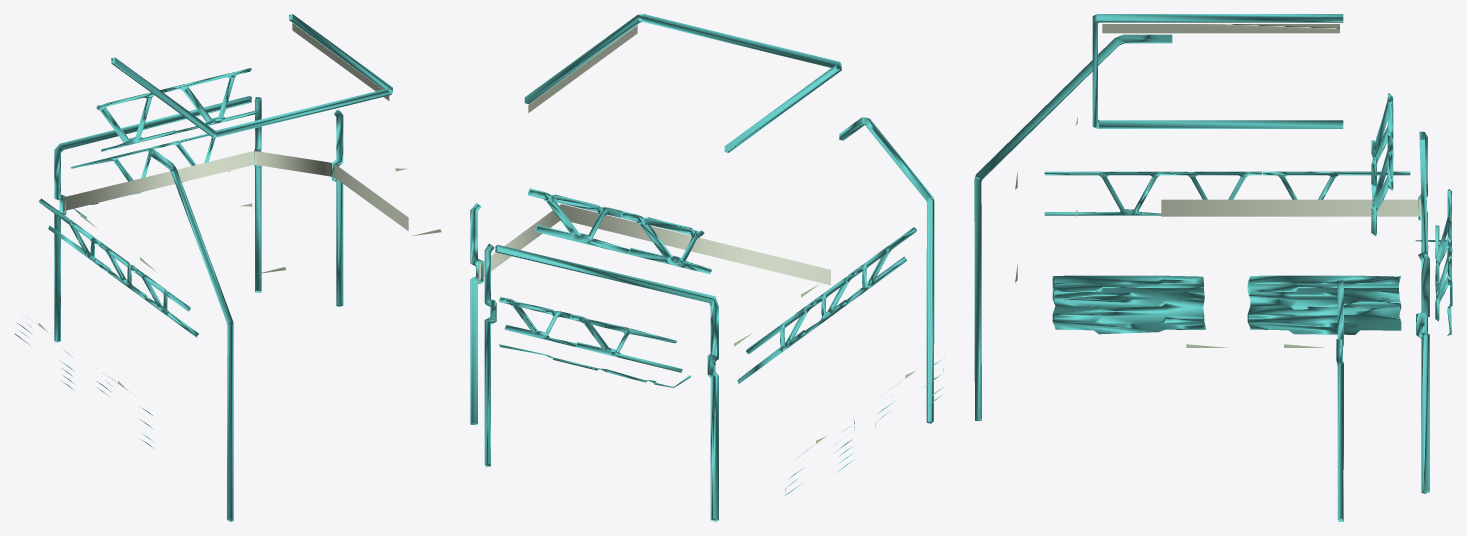
The model's file is backdrop_top_d_lod1.glb.
3 views of the same model, side by side, from view 1: azimuth 30°, elevation 25°; view 2: azimuth 150°, elevation 25°; view 3: azimuth 270°, elevation 25° (orthographic). The views are drawn at different scales.
Bounding box in the file's own units: 51.53 × 55.82 × 57.06.
